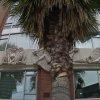Palm tree: (16, 4, 92, 79)
